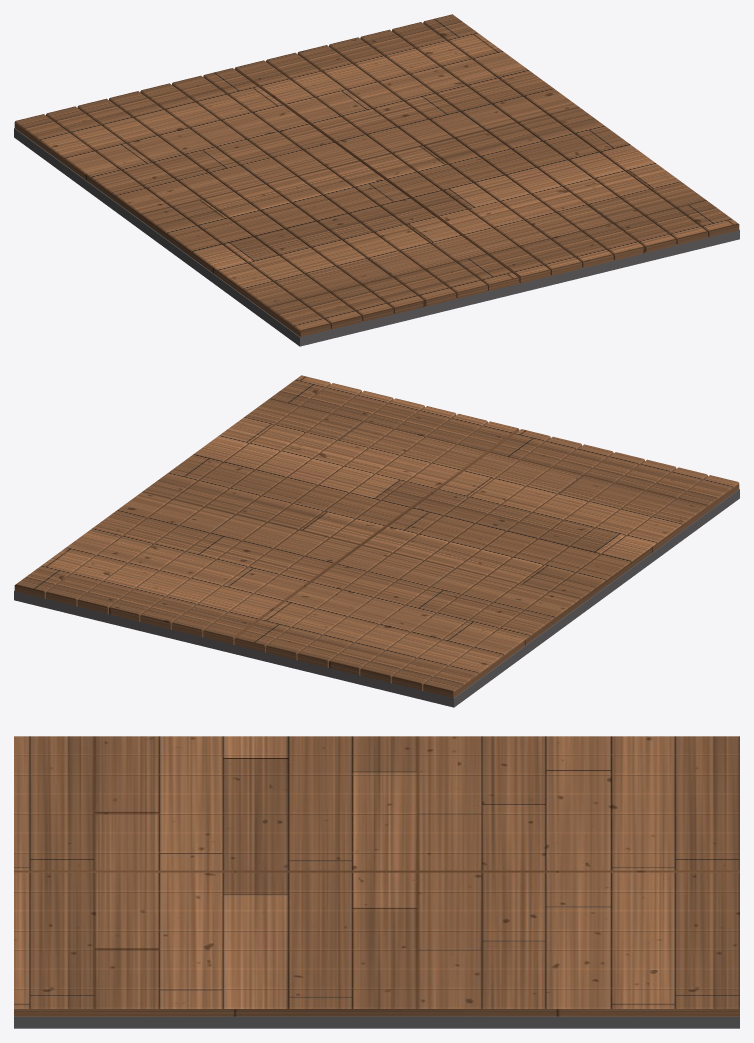
Rendered from porch_deck.glb.
3 views of the same model, one above another, from view 1: azimuth 30°, elevation 25°; view 2: azimuth 150°, elevation 25°; view 3: azimuth 270°, elevation 25° (orthographic). The views are drawn at different scales.
Visible parts, largest first — view 1: porch_deck_deck, porch_deck_dark; view 2: porch_deck_deck, porch_deck_dark; view 3: porch_deck_deck, porch_deck_dark.
Boxes of the visible parts, x1,y1,x2,y2 form: porch_deck_deck: (14, 14, 739, 337); porch_deck_dark: (14, 128, 739, 346); porch_deck_deck: (14, 375, 739, 698); porch_deck_dark: (14, 489, 739, 707); porch_deck_deck: (14, 736, 739, 1016); porch_deck_dark: (14, 1016, 739, 1028).
Size of the model in its own units: 2 by 0.07 by 2.25.
Materials: 2 (1 with a texture image).
